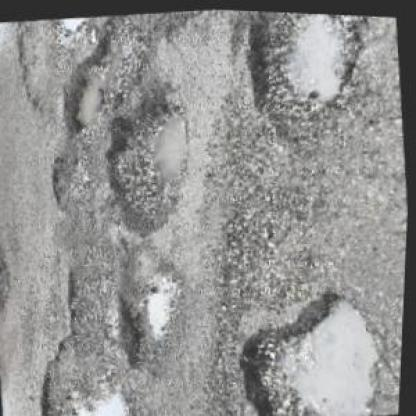pothole: (228, 274, 392, 414), (25, 255, 137, 415), (94, 83, 206, 236), (110, 236, 200, 376), (44, 143, 87, 209)
